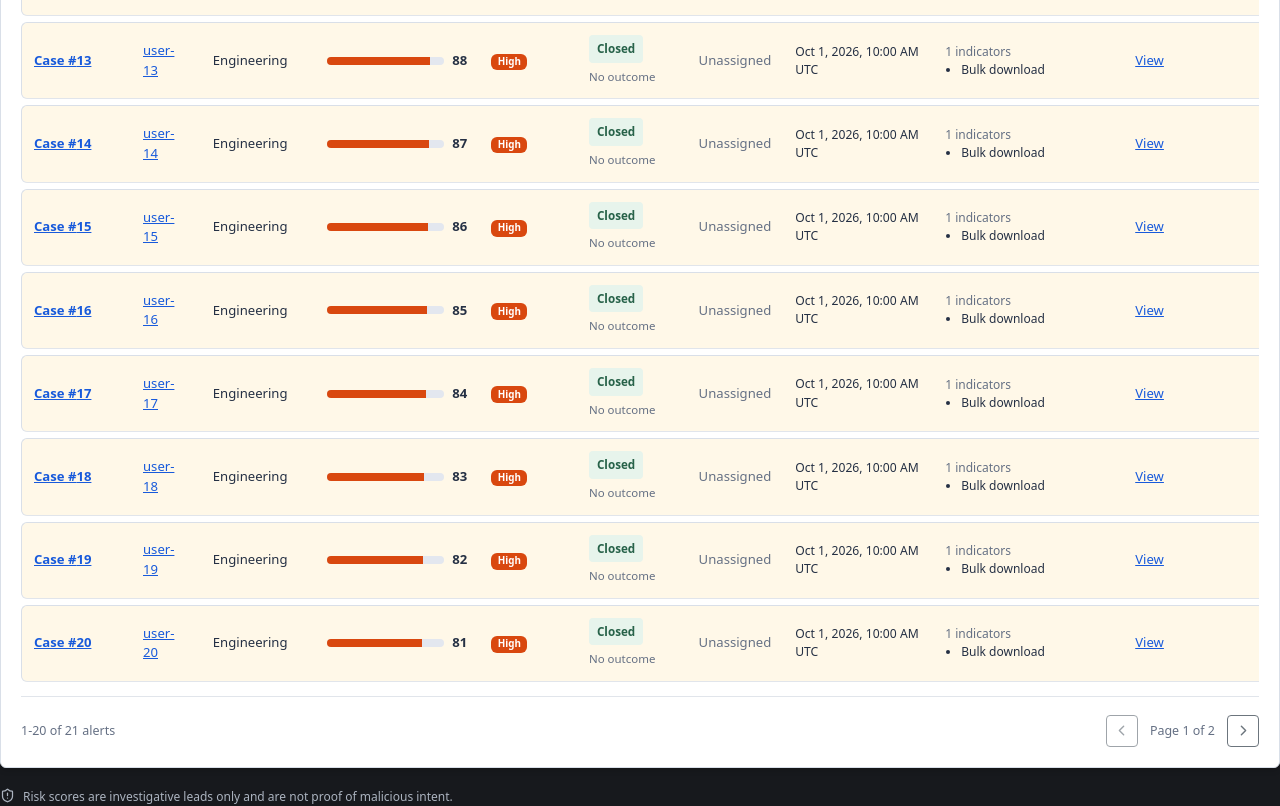
Test case: paginates the loaded queue and links to alert investigations
(page scrolled)
Expected: the link "Case #21" is not shown
Click the button named "Next page" at (1243, 731), box [1227,715,1259,747]
(page scrolled)
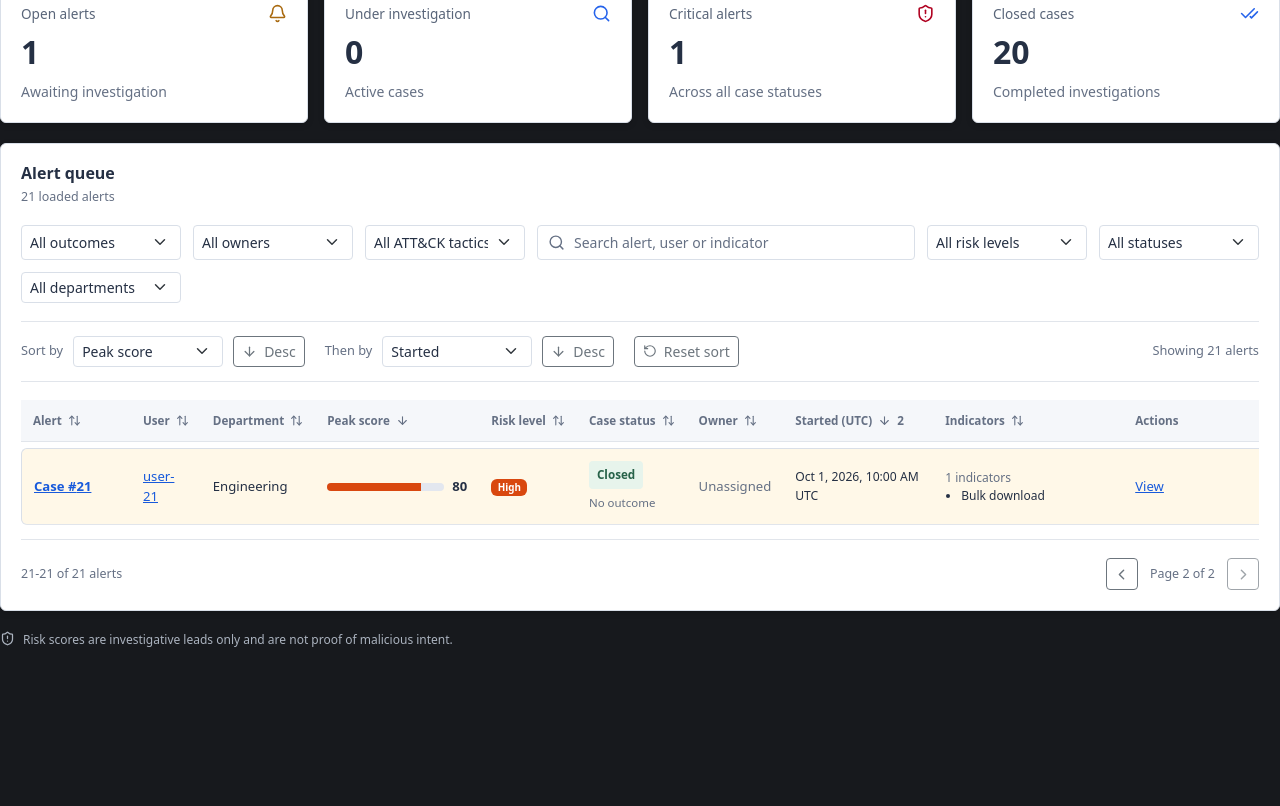
Expected: the button named "Next page" is disabled, [1227,558,1259,590]
Now the link "Case #21" is shown, box [34,477,91,495]
Select "Critical" in the dropdown named "Risk level" at (1007, 242), box [927,225,1087,260]
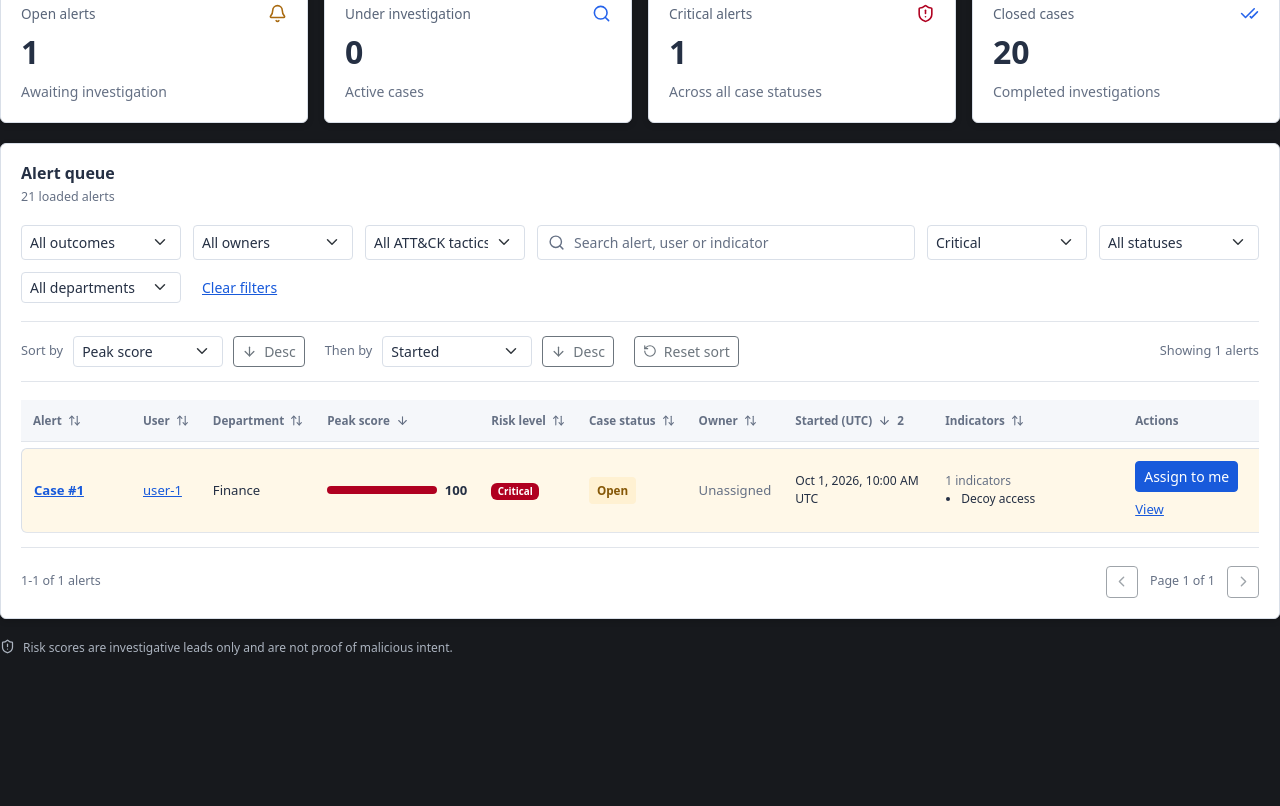
Now the link "Case #1" is shown, box [34,481,84,499]
Now the text "Page 1 of 1" is shown, box [1150,572,1215,591]
